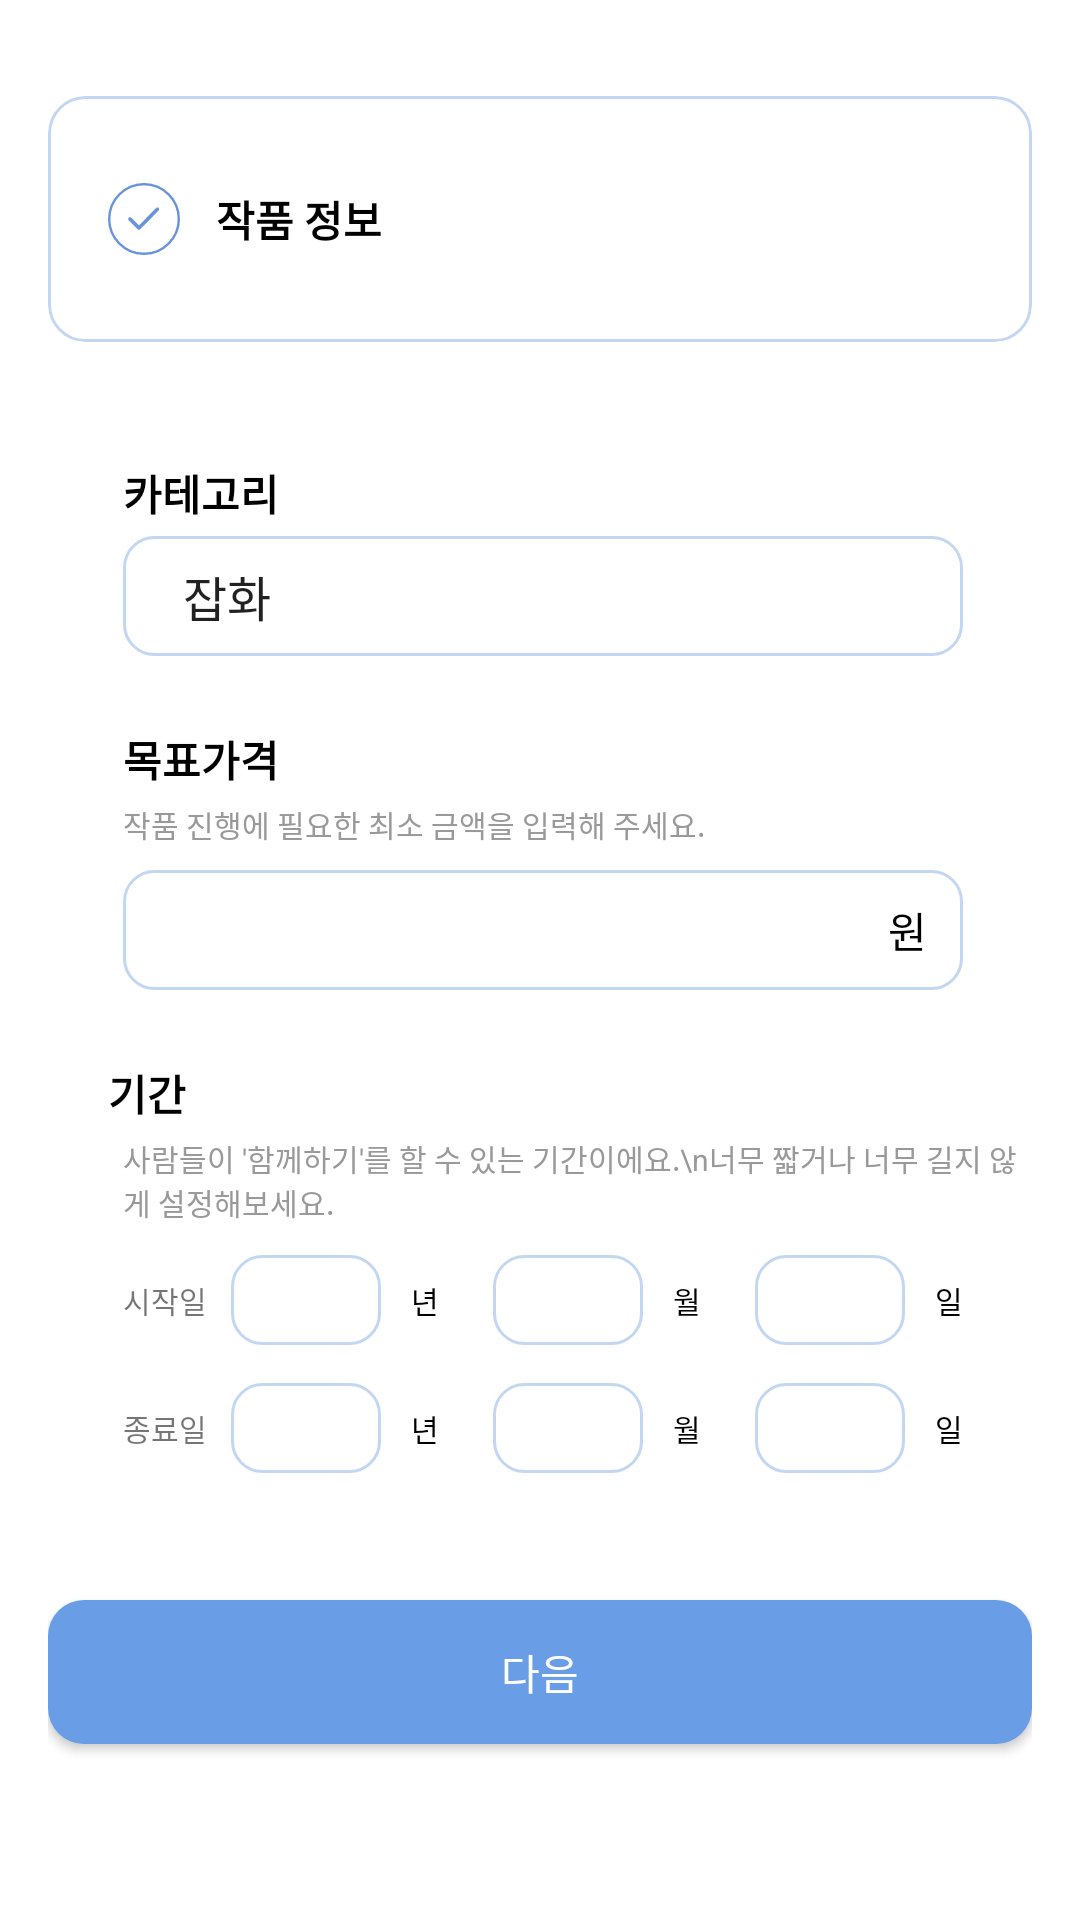

Named icons in this screenshot (1080px x 1920px) and their bounding boxes, (x1, y1, x2, y2):
check: (108, 183, 180, 255)
